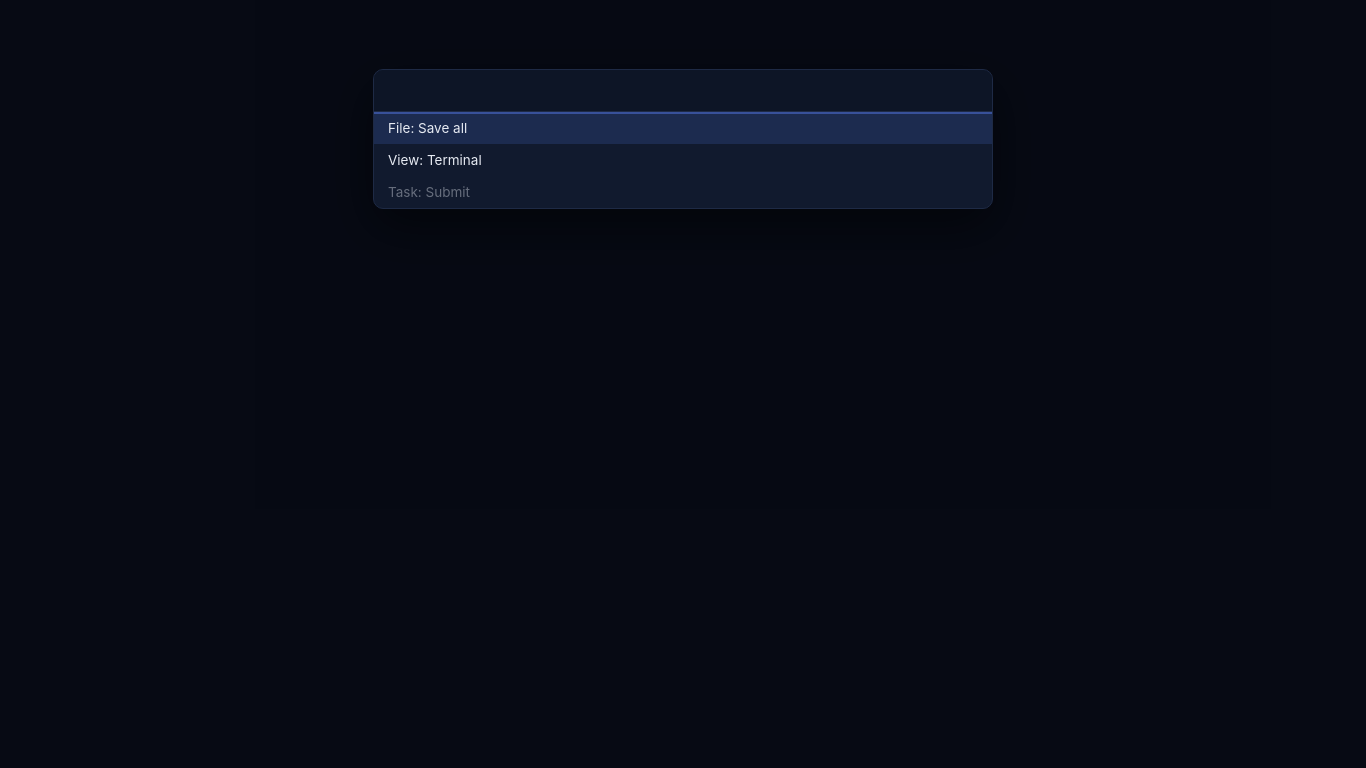
IDE building blocks › palette filters, runs the chosen command with Enter and skips disabled ones
Later steps or results of the test are not shown.
Type "term" into the field named "Command palette". click: (683, 91)
box: [374, 70, 992, 112]
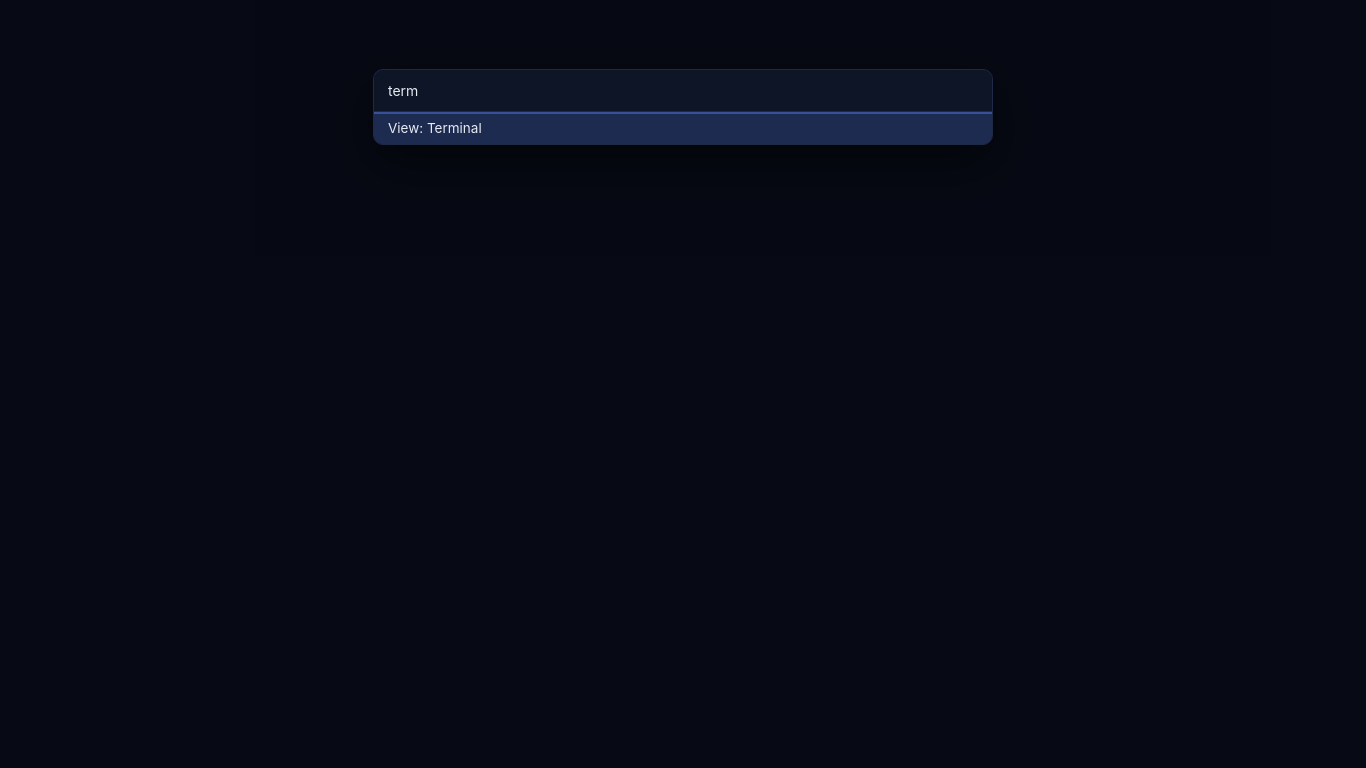
Expected: the number of options is 1, [374, 112, 992, 144]
